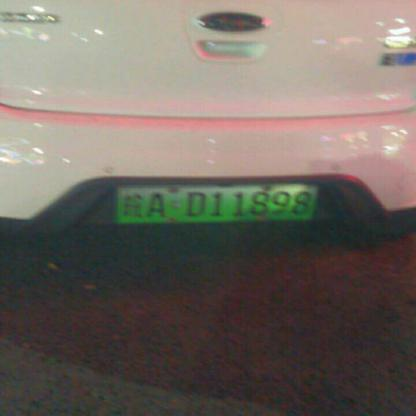lp: (115, 182, 317, 224)
